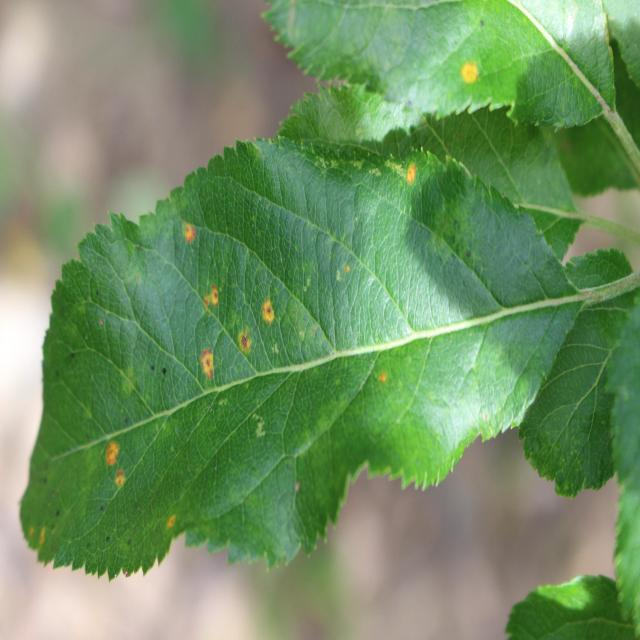Rust: (452, 50, 493, 94), (230, 316, 255, 372), (402, 148, 424, 211), (252, 290, 286, 328), (196, 273, 223, 320), (175, 210, 206, 245), (192, 342, 219, 382), (102, 421, 125, 466), (105, 469, 143, 496), (159, 509, 187, 544), (376, 361, 396, 405)
